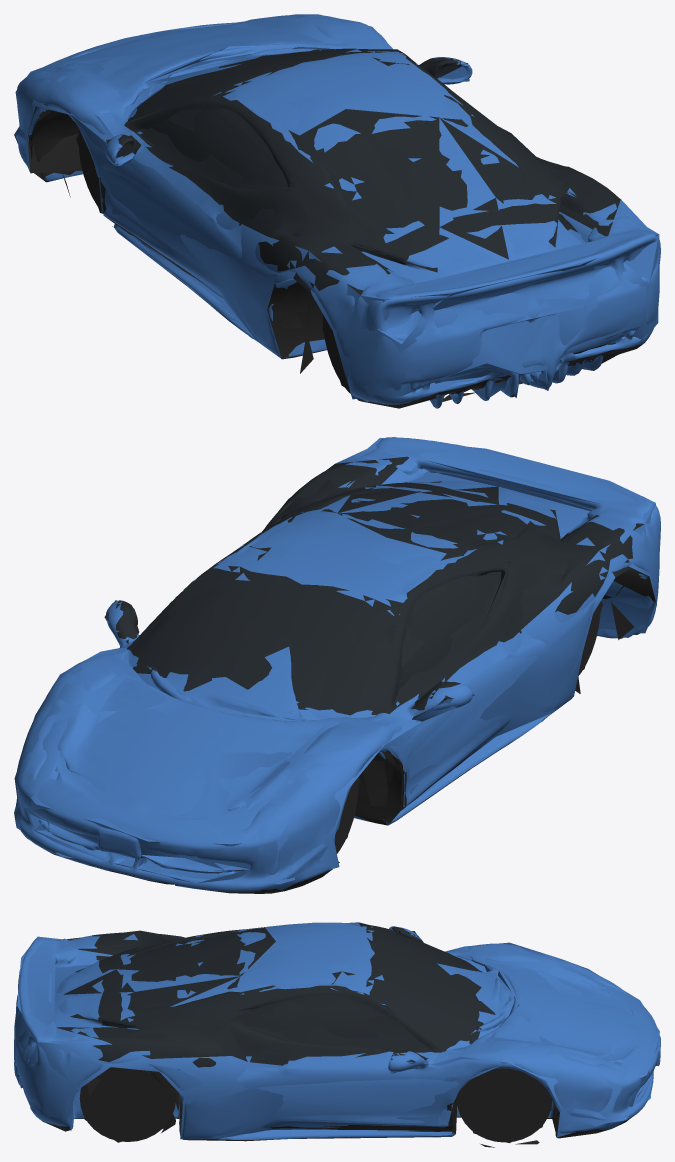
Rendered from ferrari-458-italia.glb.
3 views of the same model, one above another, from view 1: azimuth 30°, elevation 25°; view 2: azimuth 150°, elevation 25°; view 3: azimuth 270°, elevation 25° (orthographic). The views are drawn at different scales.
Parts seen in each view (by area): view 1: body, far; view 2: body, far; view 3: body, far.
Boxes of the visible parts, box(x1,y1,x2,y2) form: body: box(15, 14, 660, 408); far: box(14, 14, 659, 401); body: box(15, 437, 660, 893); far: box(14, 438, 660, 884); body: box(14, 922, 660, 1147); far: box(14, 922, 659, 1143).
Size of the model in its own units: 2.29 by 1.19 by 4.56.
